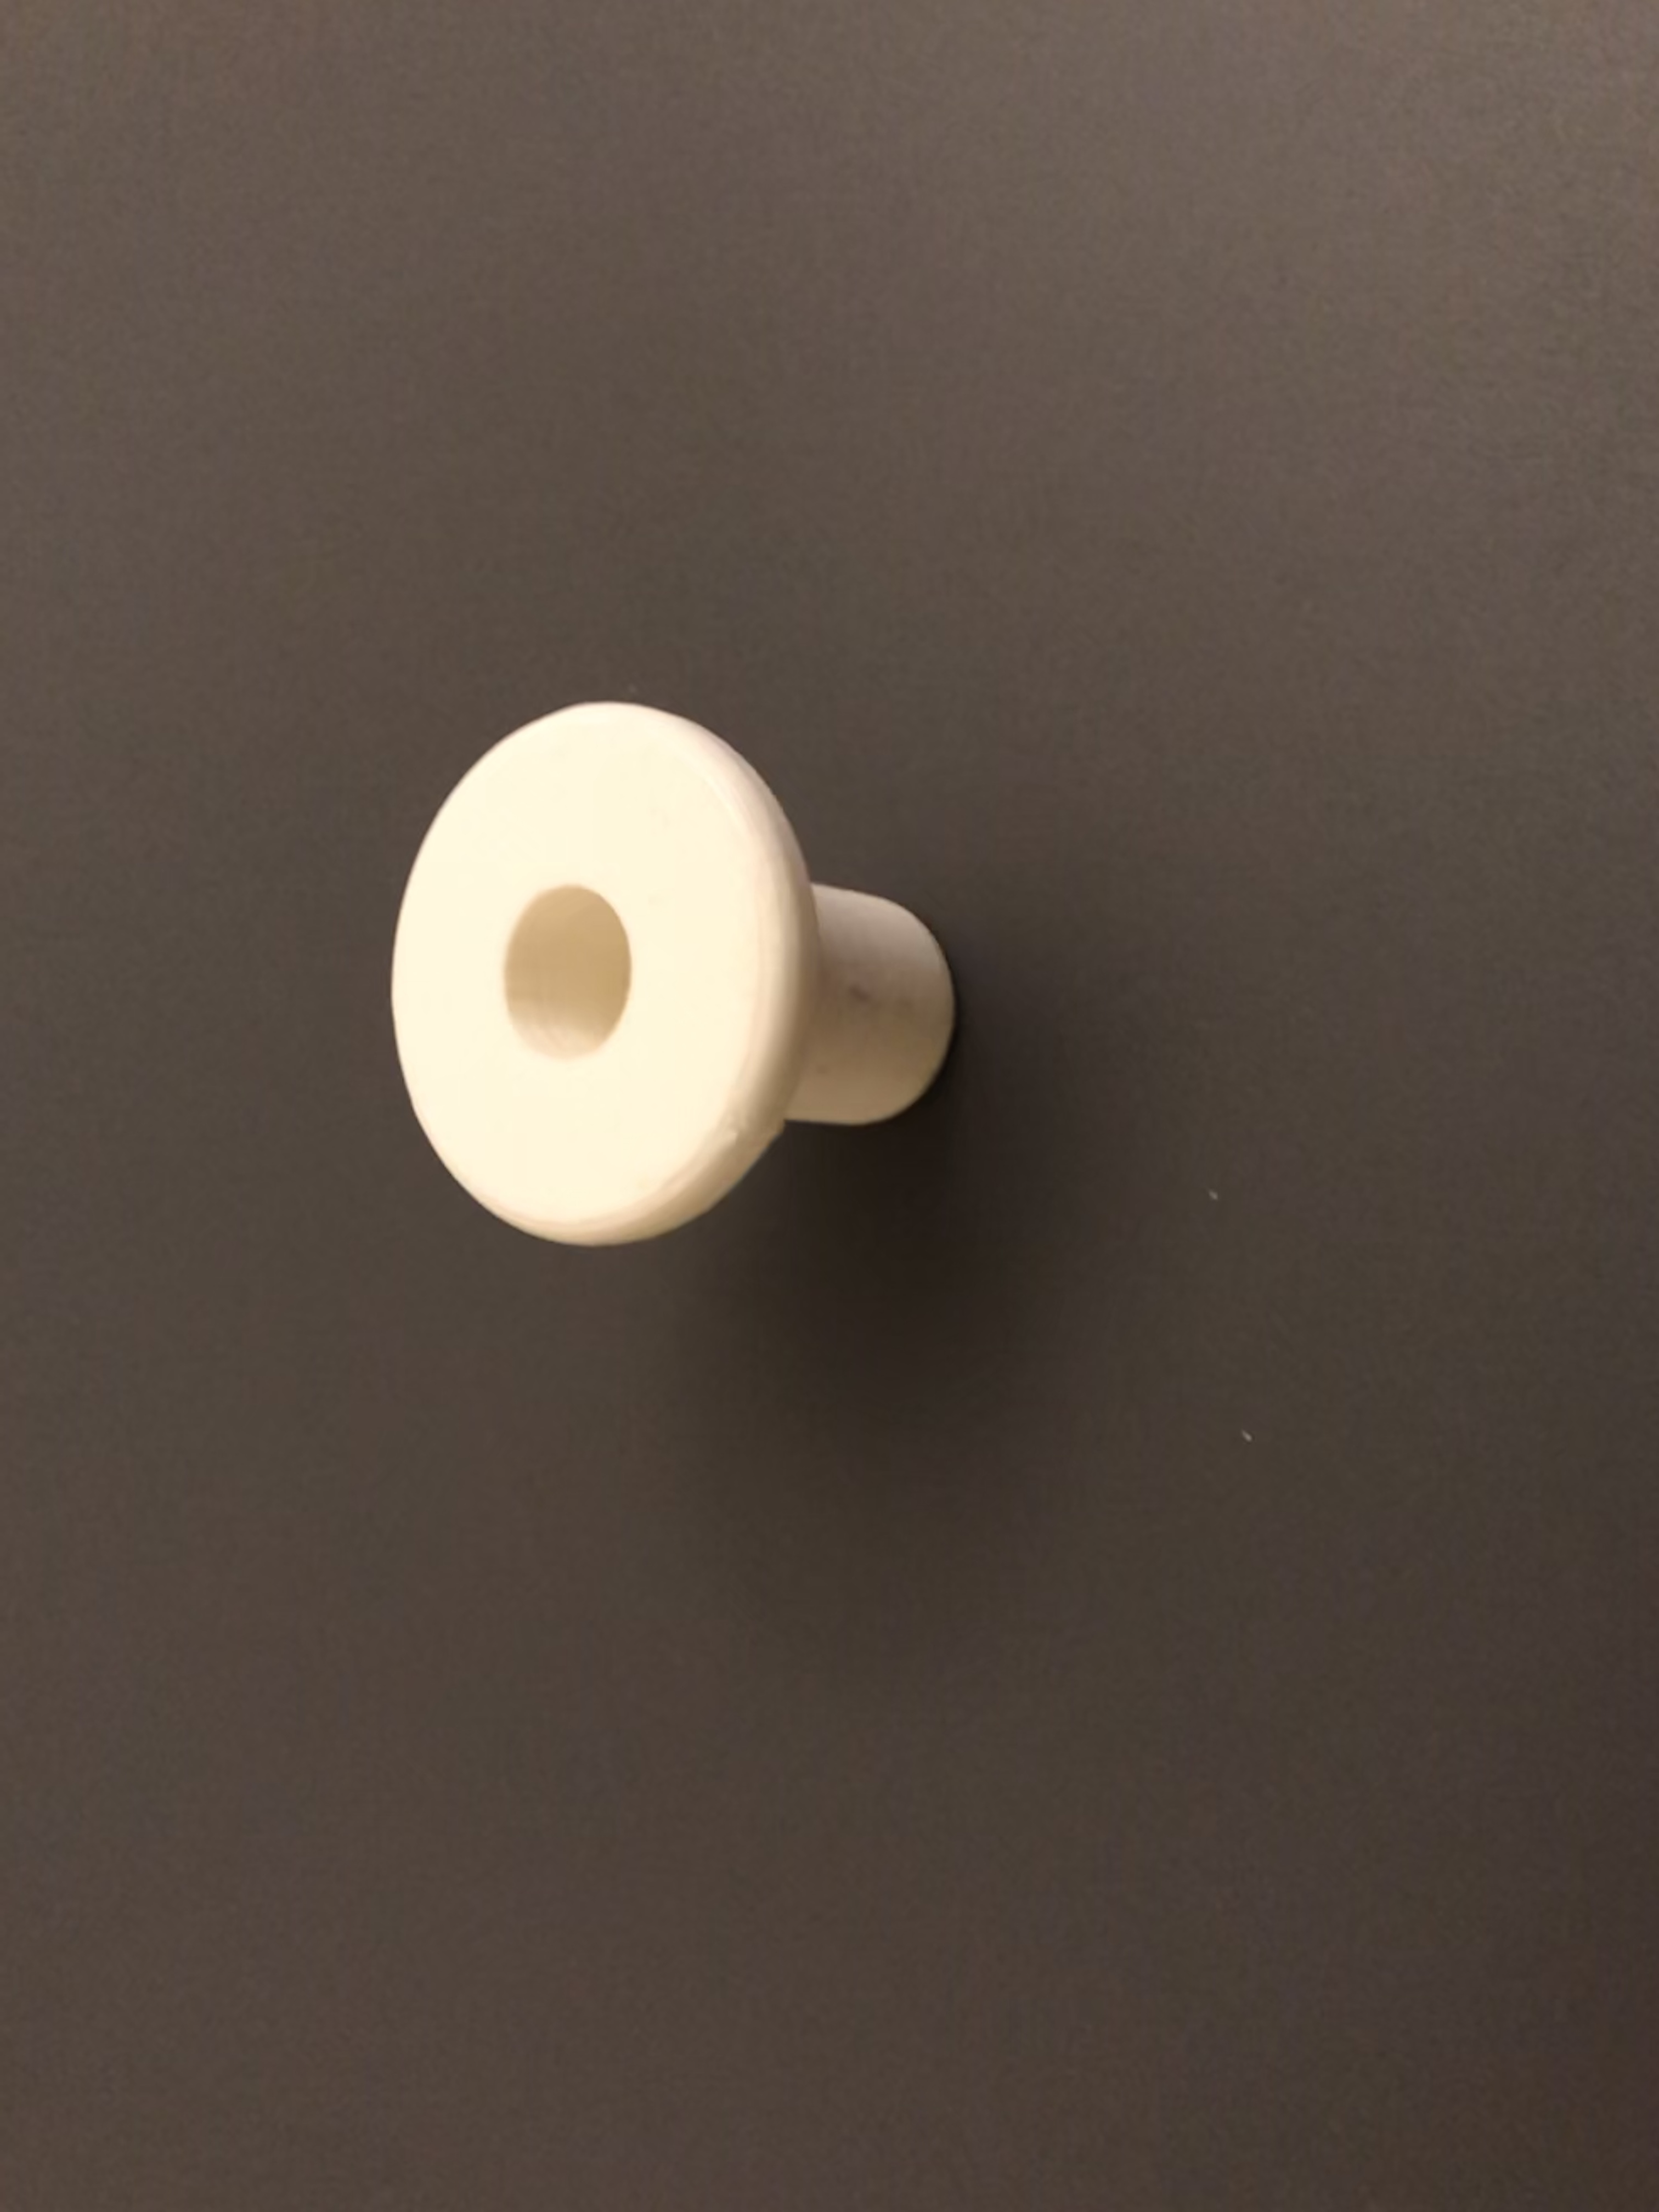White Cone: (375, 690, 964, 1268)
